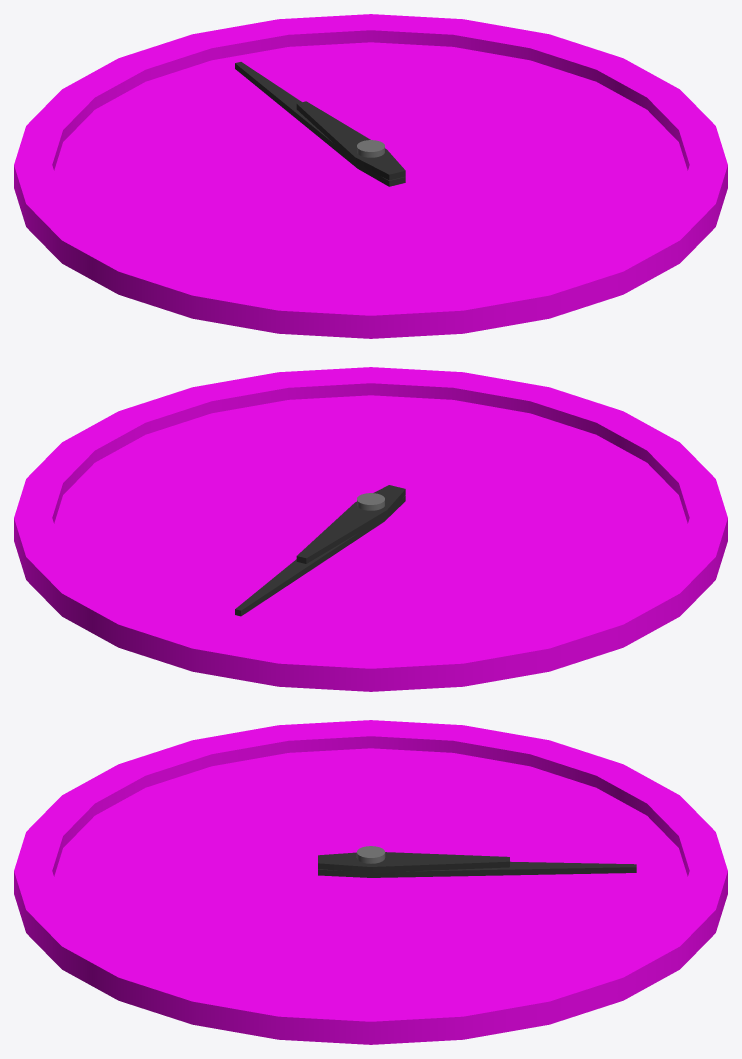
The model's file is wallClock.fbx.
3 renders of one model, top to bottom at view 1: azimuth 30°, elevation 25°; view 2: azimuth 150°, elevation 25°; view 3: azimuth 270°, elevation 25°, orthographic.
Visible parts, largest first — view 1: pCylinder2, pCube8, pCube7; view 2: pCylinder2, pCube8, pCube7; view 3: pCylinder2, pCube8, pCube7.
Boxes of the visible parts, bbox=[...] form: pCylinder2: bbox=[14, 14, 727, 338]; pCube8: bbox=[296, 101, 405, 180]; pCube7: bbox=[235, 62, 405, 186]; pCylinder2: bbox=[14, 367, 727, 691]; pCube8: bbox=[296, 485, 405, 563]; pCube7: bbox=[235, 495, 405, 616]; pCylinder2: bbox=[14, 720, 727, 1044]; pCube8: bbox=[318, 852, 509, 872]; pCube7: bbox=[318, 861, 636, 877].
Size of the model in its own units: 56 by 3.63 by 56.
